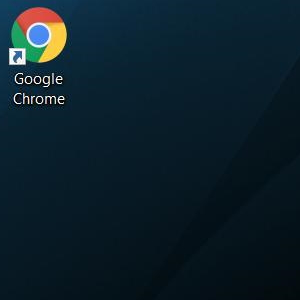chrome: (8, 6, 67, 66)
